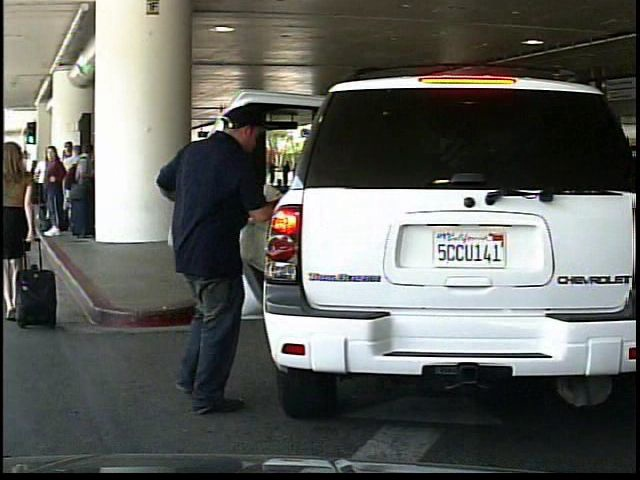person: (157, 95, 271, 436), (3, 137, 45, 332)
